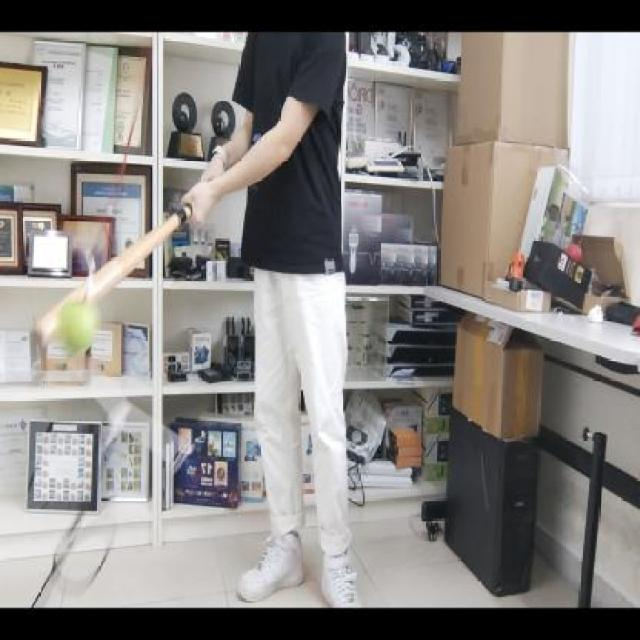baseball: (61, 296, 101, 353)
